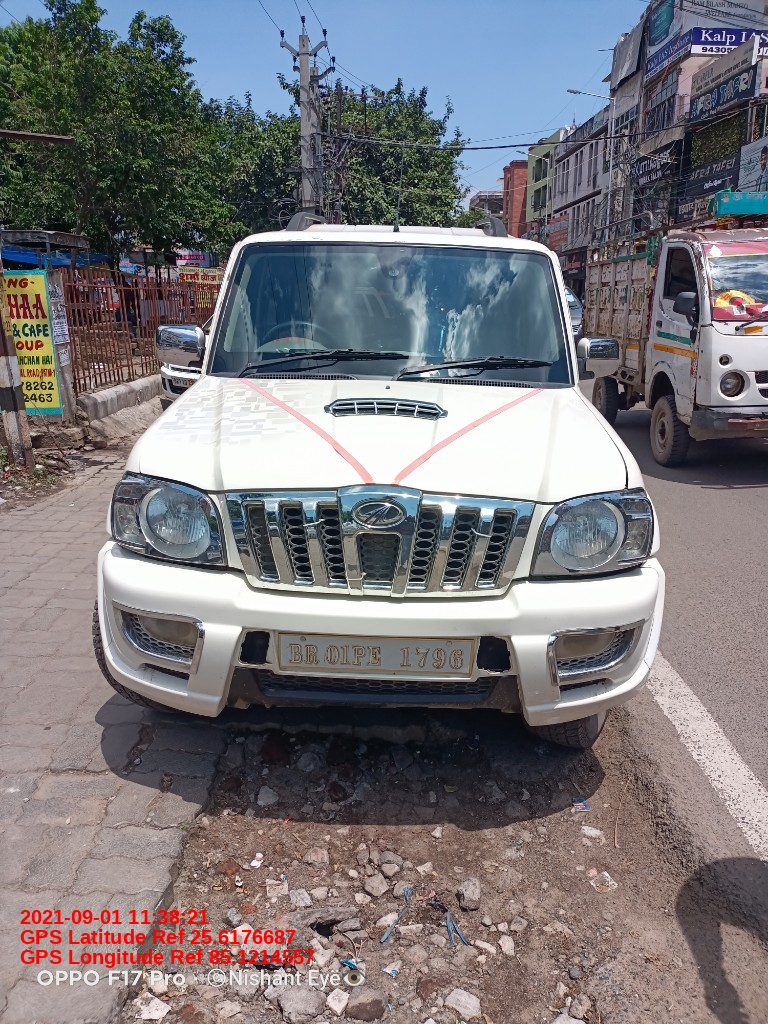Scratched: (192, 617, 211, 642)
